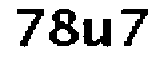7: (8, 7, 46, 49), (119, 6, 151, 53)
8: (47, 5, 81, 52)
u: (81, 14, 117, 50)
